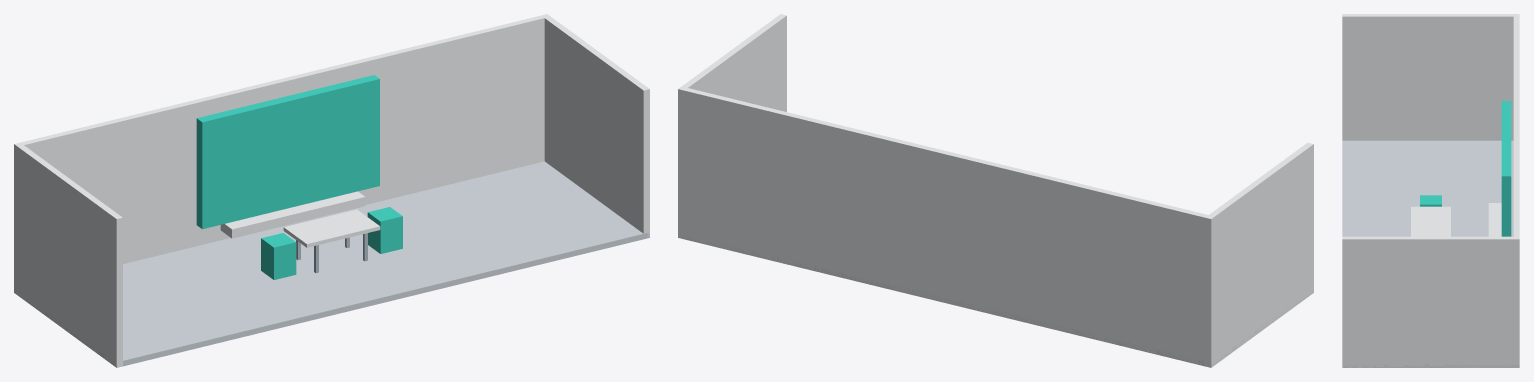
3 views of the same model, side by side, from view 1: azimuth 30°, elevation 25°; view 2: azimuth 150°, elevation 25°; view 3: azimuth 270°, elevation 25° (orthographic). The views are drawn at different scales.
Visible parts, largest first — view 1: Exhibition Booth Concept; view 2: Exhibition Booth Concept; view 3: Exhibition Booth Concept.
Part boxes in pixels (x1=…): Exhibition Booth Concept: x1=14, y1=14, x2=649, y2=367; Exhibition Booth Concept: x1=678, y1=14, x2=1313, y2=367; Exhibition Booth Concept: x1=1342, y1=14, x2=1519, y2=367.
Bounding box in the file's own units: 12 × 3.2 × 4.
